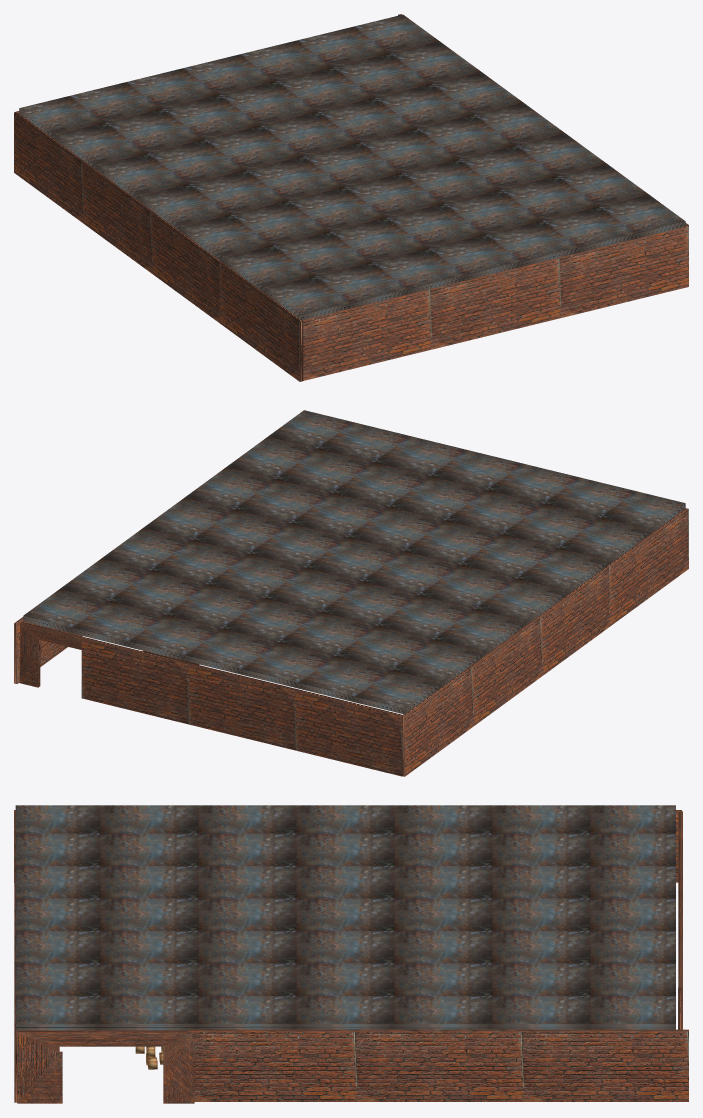
Rendered from SalaC.fbx.
The picture shows the model from 3 angles, top to bottom: view 1: azimuth 30°, elevation 25°; view 2: azimuth 150°, elevation 25°; view 3: azimuth 270°, elevation 25°; orthographic projection. The views are drawn at different scales.
Visible parts, largest first — view 1: Cube_029, Cube, Cube_005, Cube_006; view 2: Cube_029, Cube_002, Cube_005, Cube_006, Cube_023, Cube_003; view 3: Cube_029, Cube_003, Cube_007, Cube_002, Cube.
Part boxes in pixels (x1=…): Cube_029: x1=19, y1=14, x2=685, y2=320; Cube: x1=303, y1=225, x2=688, y2=380; Cube_005: x1=14, y1=112, x2=221, y2=322; Cube_006: x1=219, y1=262, x2=303, y2=381; Cube_029: x1=23, y1=410, x2=685, y2=714; Cube_002: x1=81, y1=638, x2=402, y2=776; Cube_005: x1=402, y1=566, x2=609, y2=776; Cube_006: x1=607, y1=508, x2=688, y2=626; Cube_023: x1=19, y1=622, x2=96, y2=687; Cube_003: x1=14, y1=617, x2=82, y2=683; Cube_029: x1=15, y1=805, x2=675, y2=1030; Cube_003: x1=188, y1=1029, x2=688, y2=1101; Cube_007: x1=17, y1=1030, x2=194, y2=1103; Cube_002: x1=678, y1=811, x2=682, y2=1029; Cube: x1=14, y1=811, x2=17, y2=1102.
Size of the model in its own units: 231 by 38.13 by 295.
Materials: 6 (6 with a texture image).
